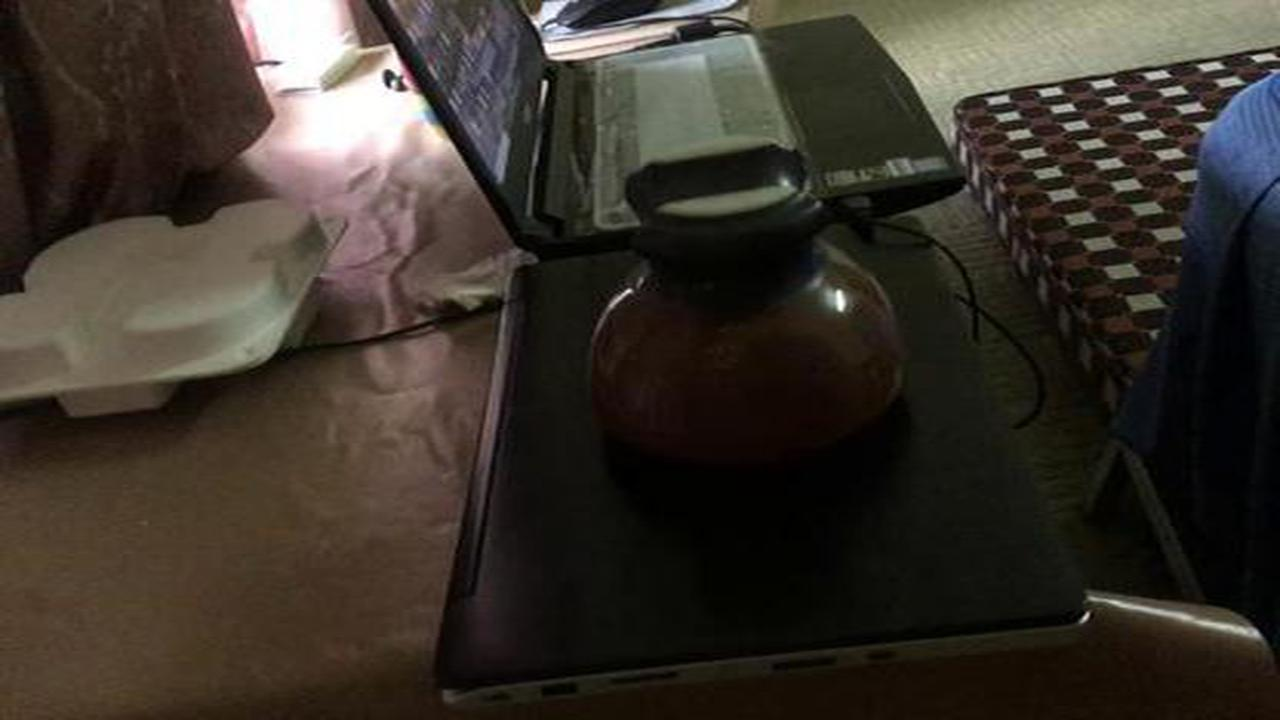insulator_pin: (567, 132, 927, 496)
